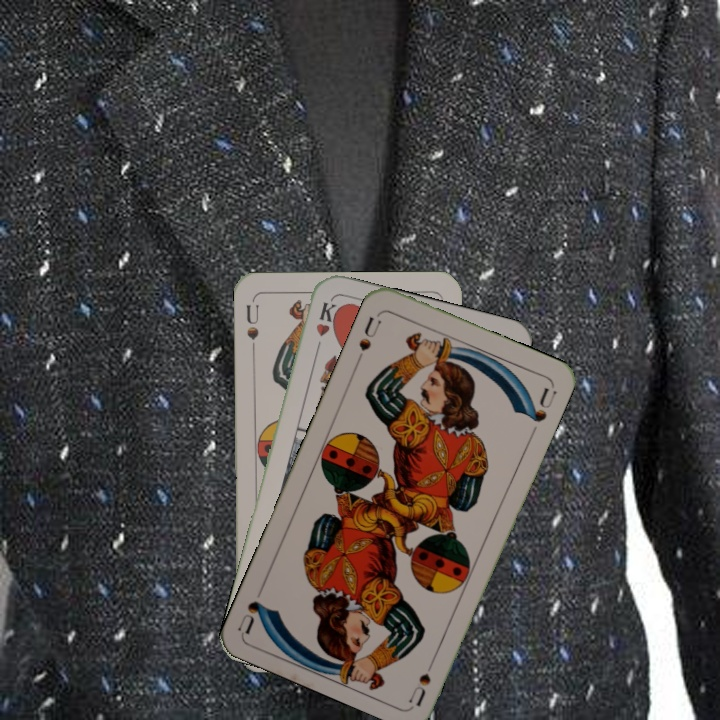HK: (311, 298, 340, 355)
SU: (405, 649, 440, 707), (352, 309, 385, 365), (243, 297, 262, 356)
